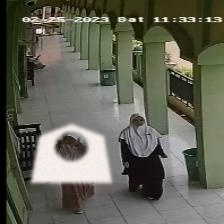Mukena: (31, 124, 111, 182)
